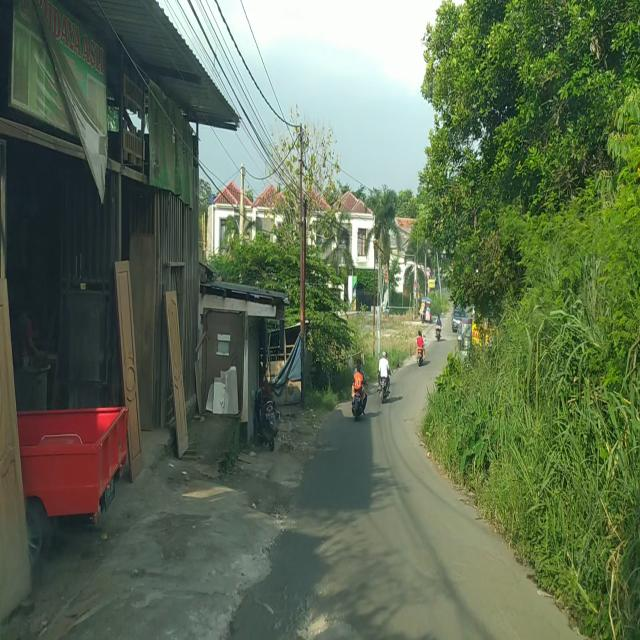Drain Hole: (268, 582, 334, 640)
